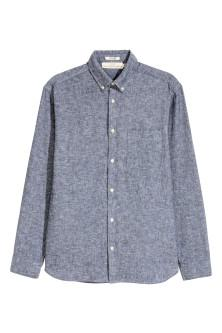teeshirt: (7, 48, 214, 291)
